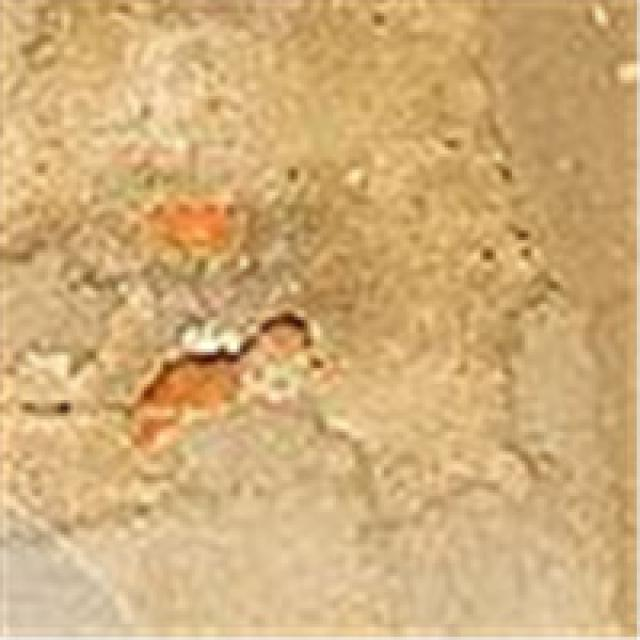Pitting Corrosion: (131, 310, 336, 450), (146, 199, 233, 266)
